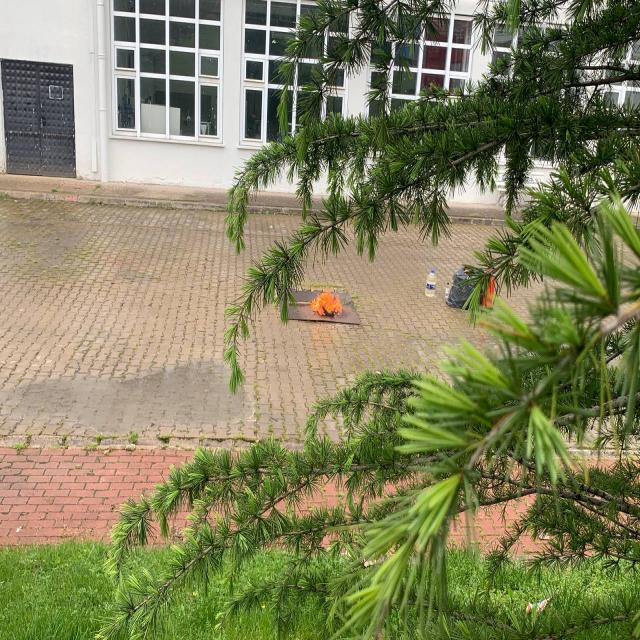fire: (310, 282, 348, 326)
